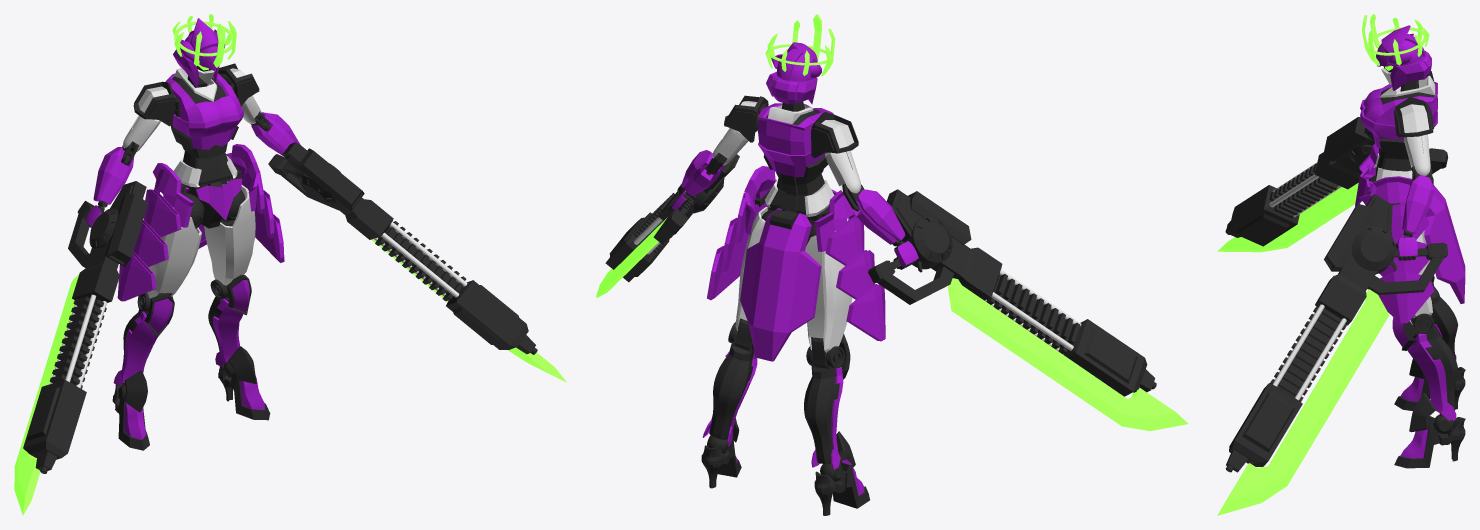
Rendered from Queen_Equipo1.fbx.
The picture shows the model from 3 angles, left to right: view 1: azimuth 30°, elevation 25°; view 2: azimuth 150°, elevation 25°; view 3: azimuth 270°, elevation 25°; orthographic projection. The views are drawn at different scales.
Parts seen in each view (by area): view 1: Queen_Geo_Der, Queen_Geo_Izq, Queen_Torso_Geo_Main, Queen_Geo_Muslo_Armor_Izq, Queen_Geo_Muslo_Armor_Der, Queen_Torso_Geo_Cintura, Queen_Cabeza_Geo_Casco, Queen_Geo_Perone_Armadura_Frontal_Der, Queen_Brazos_Geo_Antebrazo_Armadura_Der, Queen_Brazos_Geo_Armadura_Hombro_Main_Der, Queen_Cabeza_Geo_Corona, Queen_Geo_Perone_Armadura_Frontal_Izq (+16 smaller); view 2: Queen_Geo_Der, Queen_Falda_Geo_Trasera, Queen_Geo_Izq, Queen_Torso_Geo_Main, Queen_Geo_Muslo_Armor_Der, Queen_Geo_Perone_Articulacion_Izq, Queen_Geo_Perone_Articulacion_Der, Queen_Cabeza_Geo_Casco, Queen_Torso_Geo_Cintura, Queen_Brazos_Geo_Antebrazo_Armadura_Der, Queen_Brazos_Geo_Armadura_Hombro_Main_Der, Queen_Falda_Geo_Lateral_004_Der (+16 smaller); view 3: Queen_Geo_Izq, Queen_Geo_Der, Queen_Torso_Geo_Main, Queen_Falda_Geo_Trasera, Queen_Cabeza_Geo_Casco, Queen_Geo_Perone_Armadura_Frontal_Izq, Queen_Falda_Geo_Lateral_004_Izq, Queen_Brazos_Geo_Armadura_Hombro_Main_Izq, Queen_Cabeza_Geo_Corona, Queen_Brazos_Geo_Antebrazo_Armadura_Izq, Queen_Geo_Pie_Armadura_Izq, Queen_Geo_Perone_Articulacion_Izq (+15 smaller).
Part boxes in pixels (x1,y1,x2,y2): Queen_Geo_Der: (14, 181, 148, 515); Queen_Geo_Izq: (268, 142, 566, 382); Queen_Torso_Geo_Main: (165, 68, 243, 149); Queen_Geo_Muslo_Armor_Izq: (204, 181, 255, 285); Queen_Geo_Muslo_Armor_Der: (147, 207, 201, 298); Queen_Torso_Geo_Cintura: (174, 151, 237, 187); Queen_Cabeza_Geo_Casco: (173, 18, 224, 87); Queen_Geo_Perone_Armadura_Frontal_Der: (113, 311, 157, 385); Queen_Brazos_Geo_Antebrazo_Armadura_Der: (93, 147, 134, 204); Queen_Brazos_Geo_Armadura_Hombro_Main_Der: (133, 81, 175, 126); Queen_Cabeza_Geo_Corona: (172, 14, 236, 67); Queen_Geo_Perone_Armadura_Frontal_Izq: (212, 298, 243, 366); Queen_Geo_Der: (868, 189, 1188, 431); Queen_Falda_Geo_Trasera: (740, 208, 821, 361); Queen_Geo_Izq: (596, 154, 739, 297); Queen_Torso_Geo_Main: (758, 103, 833, 178); Queen_Geo_Muslo_Armor_Der: (805, 231, 852, 352); Queen_Geo_Perone_Articulacion_Izq: (709, 330, 754, 439); Queen_Geo_Perone_Articulacion_Der: (804, 355, 839, 463); Queen_Cabeza_Geo_Casco: (766, 42, 821, 104); Queen_Torso_Geo_Cintura: (765, 173, 834, 216); Queen_Brazos_Geo_Antebrazo_Armadura_Der: (852, 189, 905, 244); Queen_Brazos_Geo_Armadura_Hombro_Main_Der: (811, 112, 858, 158); Queen_Falda_Geo_Lateral_004_Der: (846, 284, 885, 341); Queen_Geo_Izq: (1217, 194, 1448, 515); Queen_Geo_Der: (1217, 117, 1448, 252); Queen_Torso_Geo_Main: (1360, 75, 1437, 153); Queen_Falda_Geo_Trasera: (1424, 185, 1465, 303); Queen_Cabeza_Geo_Casco: (1376, 25, 1431, 90); Queen_Geo_Perone_Armadura_Frontal_Izq: (1407, 333, 1456, 420); Queen_Falda_Geo_Lateral_004_Izq: (1378, 271, 1434, 323); Queen_Brazos_Geo_Armadura_Hombro_Main_Izq: (1394, 97, 1433, 137); Queen_Cabeza_Geo_Corona: (1362, 14, 1429, 65); Queen_Brazos_Geo_Antebrazo_Armadura_Izq: (1402, 175, 1434, 233); Queen_Geo_Pie_Armadura_Izq: (1394, 420, 1440, 468); Queen_Geo_Perone_Articulacion_Izq: (1413, 327, 1457, 415).
Size of the model in its own units: 2109 by 1562 by 839.
